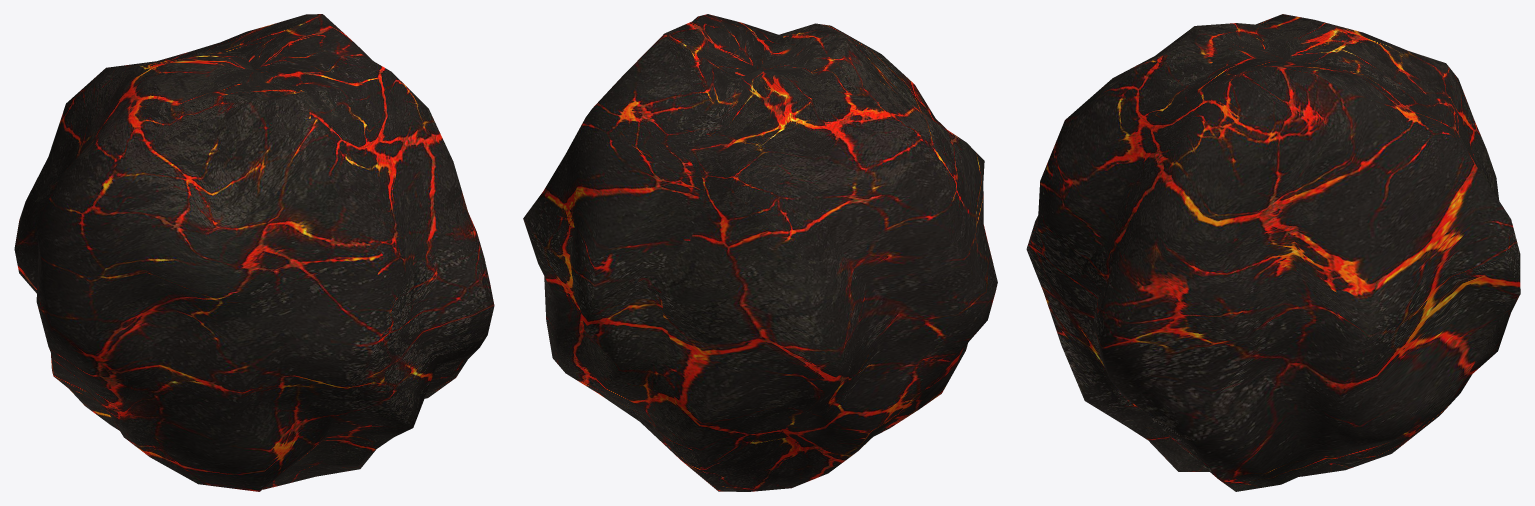
3 views of the same model, side by side, from view 1: azimuth 30°, elevation 25°; view 2: azimuth 150°, elevation 25°; view 3: azimuth 270°, elevation 25° (orthographic). The views are drawn at different scales.
Visible parts, largest first — view 1: GeoSphere001; view 2: GeoSphere001; view 3: GeoSphere001.
Part boxes in pixels (x1,y1,x2,y2): GeoSphere001: (14,14,494,491); GeoSphere001: (523,14,997,491); GeoSphere001: (1026,14,1520,491).
Bounding box in the file's own units: 12.81 × 12.82 × 12.76.
1 material, 1 textured.
